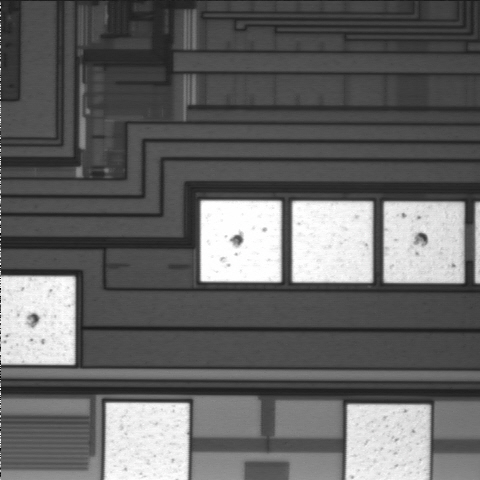pad: (200, 200, 282, 282), (292, 201, 373, 283), (384, 202, 464, 283)
